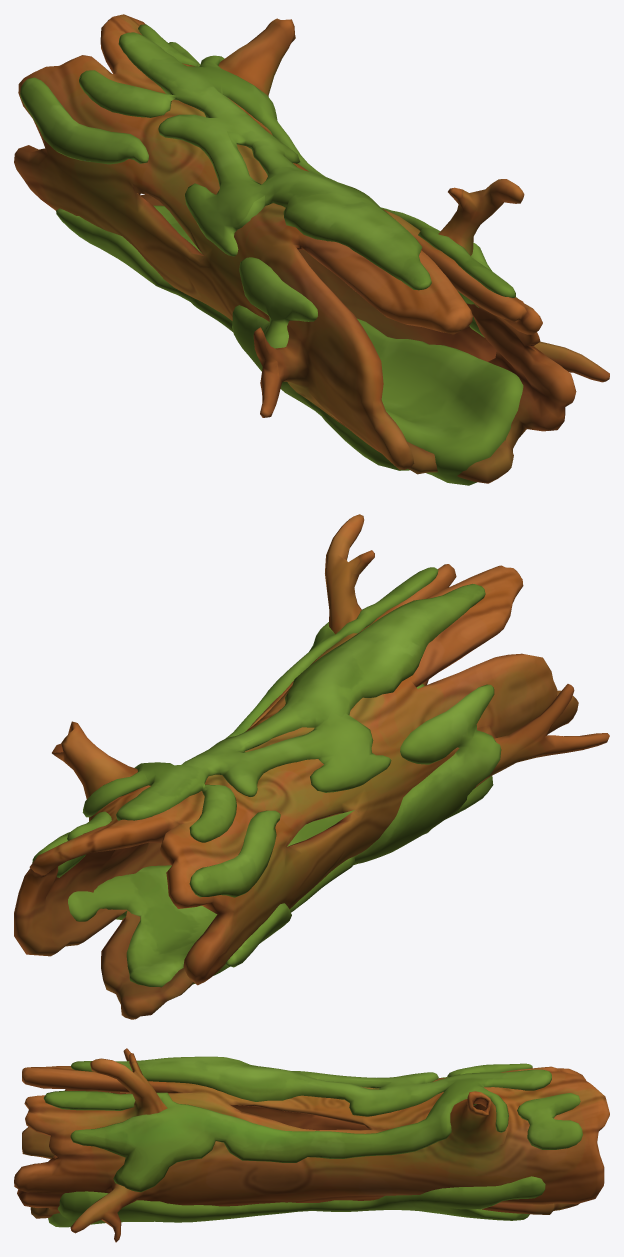
Rendered from tree_yosun_lp.fbx.
3 renders of one model, top to bottom at view 1: azimuth 30°, elevation 25°; view 2: azimuth 150°, elevation 25°; view 3: azimuth 270°, elevation 25°, orthographic. The views are drawn at different scales.
Visible parts, largest first — view 1: Retopo_kutuk, Retopo_yosun; view 2: Retopo_kutuk, Retopo_yosun; view 3: Retopo_kutuk, Retopo_yosun.
Boxes of the visible parts, left/top/right/bottom form: Retopo_kutuk: left=14, top=14, right=609, bottom=483; Retopo_yosun: left=20, top=24, right=523, bottom=485; Retopo_kutuk: left=14, top=514, right=609, bottom=1019; Retopo_yosun: left=32, top=567, right=501, bottom=987; Retopo_kutuk: left=14, top=1048, right=609, bottom=1242; Retopo_yosun: left=43, top=1056, right=582, bottom=1227.
Bounding box in the file's own units: 374 × 281 × 795.
